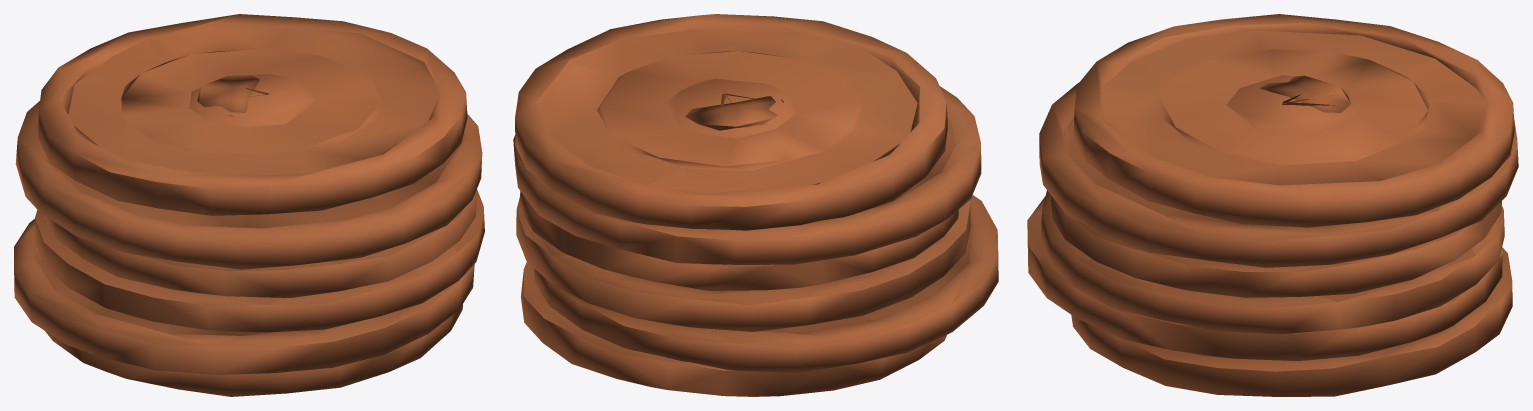
The model's file is grotto_coin_stack_lod1.glb.
3 renders of one model, left to right at view 1: azimuth 30°, elevation 25°; view 2: azimuth 150°, elevation 25°; view 3: azimuth 270°, elevation 25°, orthographic. The views are drawn at different scales.
Parts seen in each view (by area): view 1: grotto_coin_stack.001; view 2: grotto_coin_stack.001; view 3: grotto_coin_stack.001.
Boxes of the visible parts, <box> form: grotto_coin_stack.001: <box>14,14,484,396</box>; grotto_coin_stack.001: <box>513,14,998,396</box>; grotto_coin_stack.001: <box>1027,14,1518,396</box>.
Bounding box in the file's own units: 5.51 × 2.72 × 5.52.
